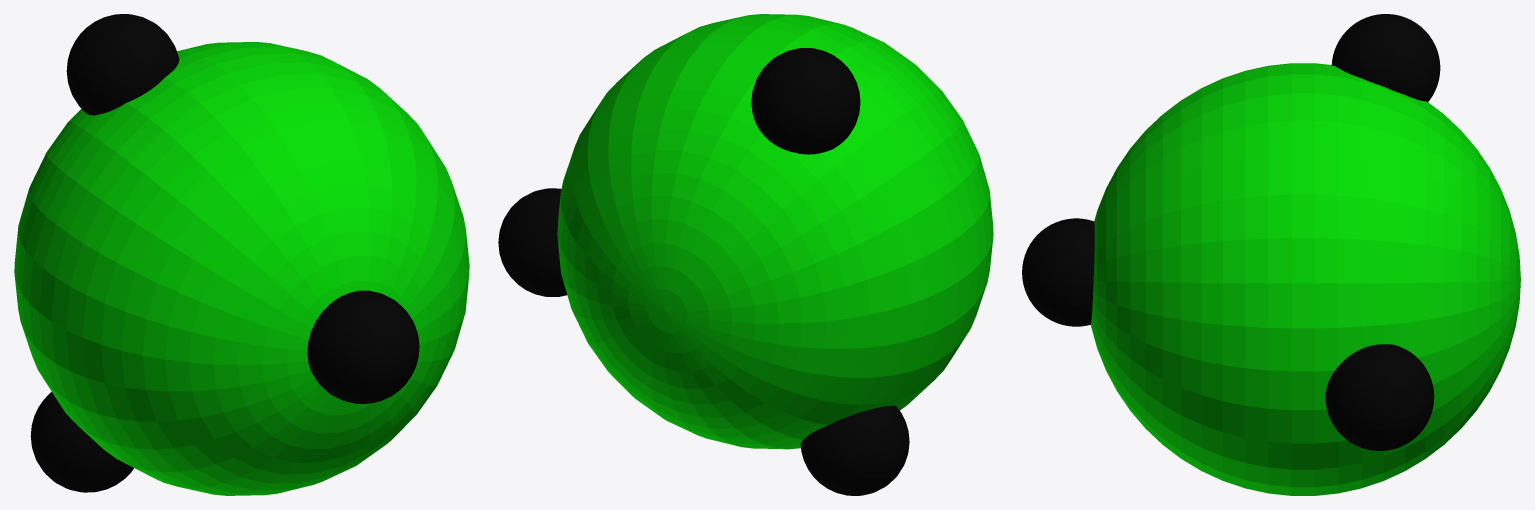
File: Ammonium Chloride.glb
The picture shows the model from 3 angles, left to right: view 1: azimuth 30°, elevation 25°; view 2: azimuth 150°, elevation 25°; view 3: azimuth 270°, elevation 25°; orthographic projection. The views are drawn at different scales.
Visible parts, largest first — view 1: world; view 2: world; view 3: world.
Part boxes in pixels (x1,y1,x2,y2): world: (14, 14, 469, 495); world: (498, 14, 993, 495); world: (1022, 14, 1520, 495).
Bounding box in the file's own units: 2.22 × 2.19 × 2.29.
